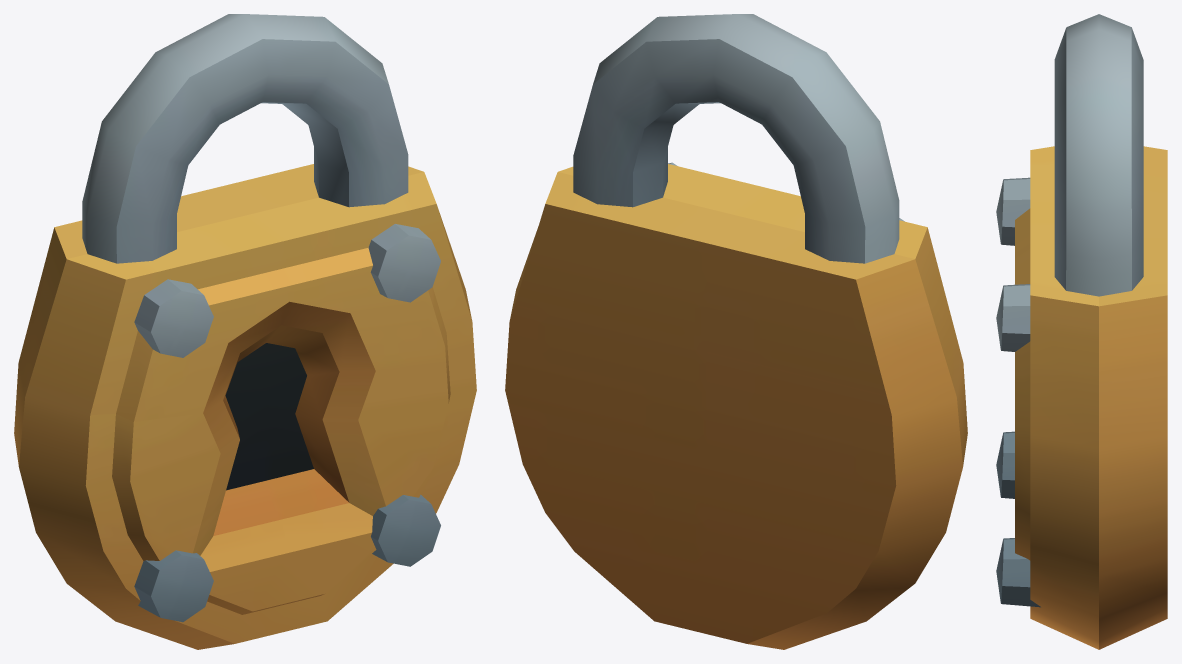
File: lock_c.glb
3 views of the same model, side by side, from view 1: azimuth 30°, elevation 25°; view 2: azimuth 150°, elevation 25°; view 3: azimuth 270°, elevation 25° (orthographic). The views are drawn at different scales.
Parts seen in each view (by area): view 1: lock_C, lock_C_part; view 2: lock_C, lock_C_part; view 3: lock_C, lock_C_part.
Part boxes in pixels (bbox=[...]): lock_C: bbox=[14, 164, 476, 649]; lock_C_part: bbox=[82, 14, 408, 263]; lock_C: bbox=[505, 162, 967, 649]; lock_C_part: bbox=[573, 14, 899, 263]; lock_C: bbox=[996, 146, 1167, 649]; lock_C_part: bbox=[1054, 14, 1143, 296].
Bounding box in the file's own units: 0.7223 × 0.9509 × 0.2471.
1 material, 1 textured.
